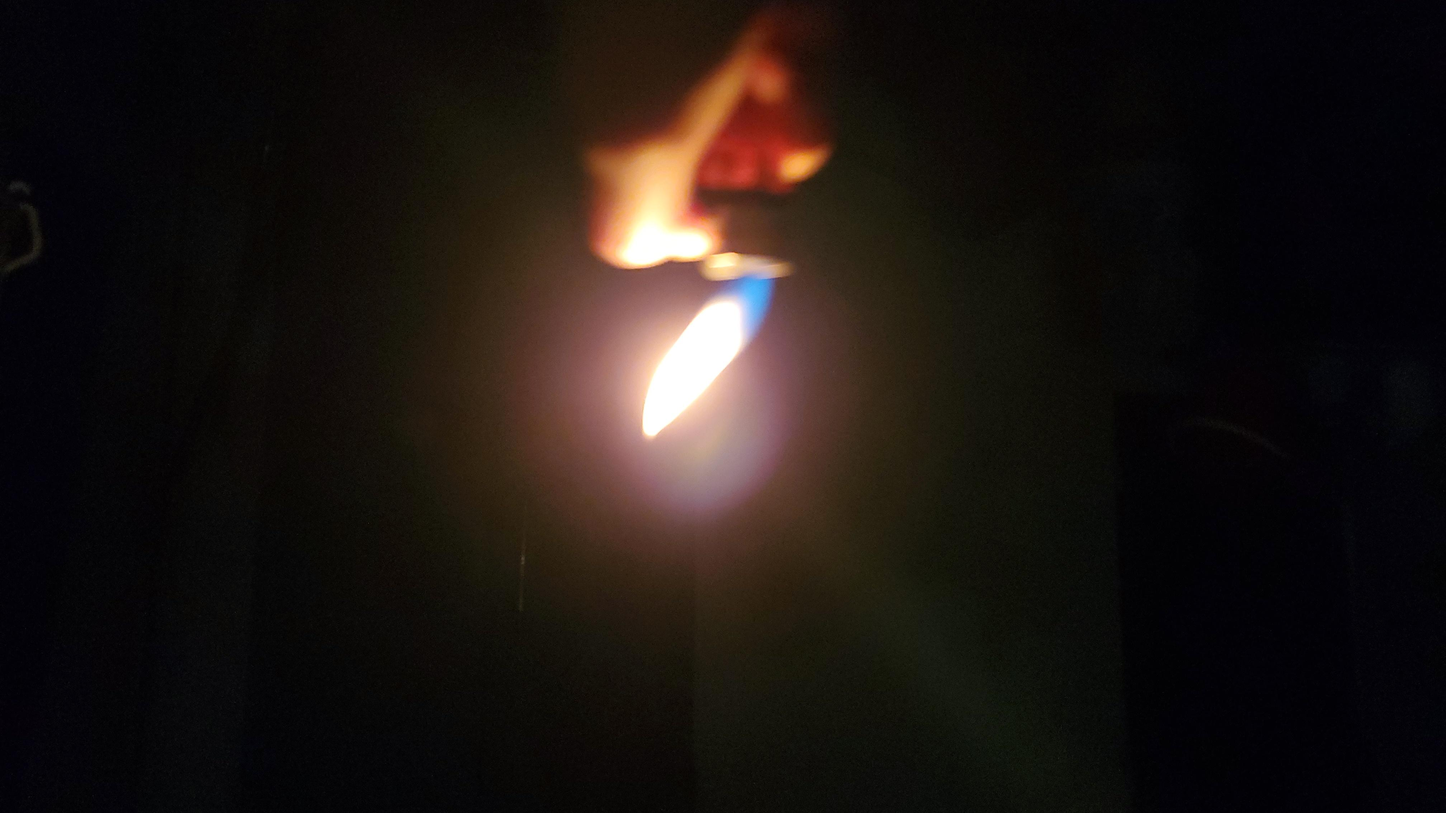fire: (664, 352, 829, 525)
